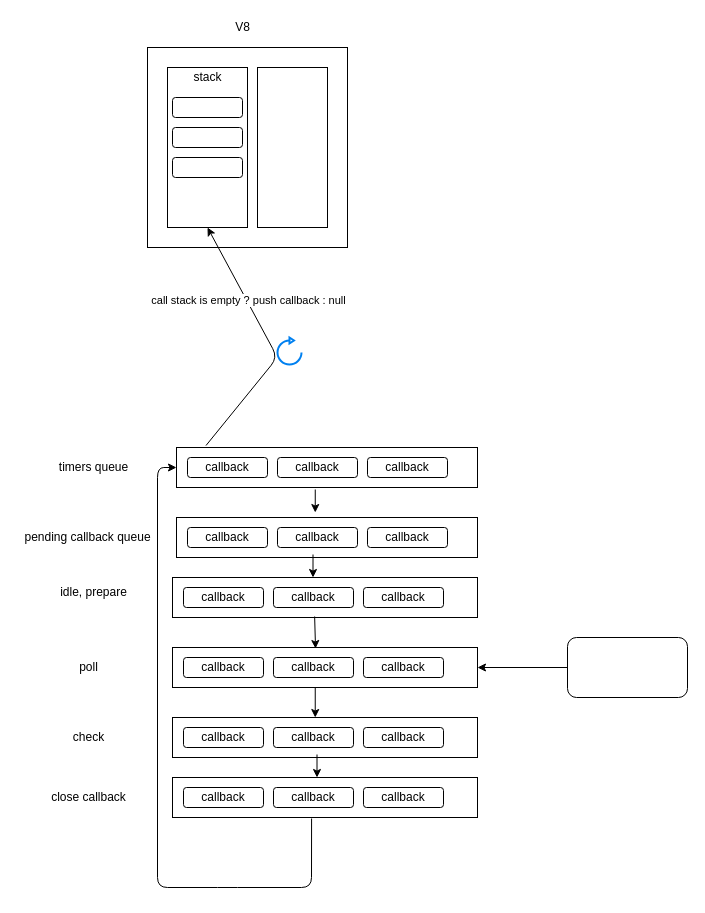
This 705x913 diagram has some shape labels left out. The shapes that lost their labels are listed below. From the top down, each one's centre as x and y in pixels, then its label:
At point 292,147: "heap".
At point 627,667: "incoming connections data, etc".
